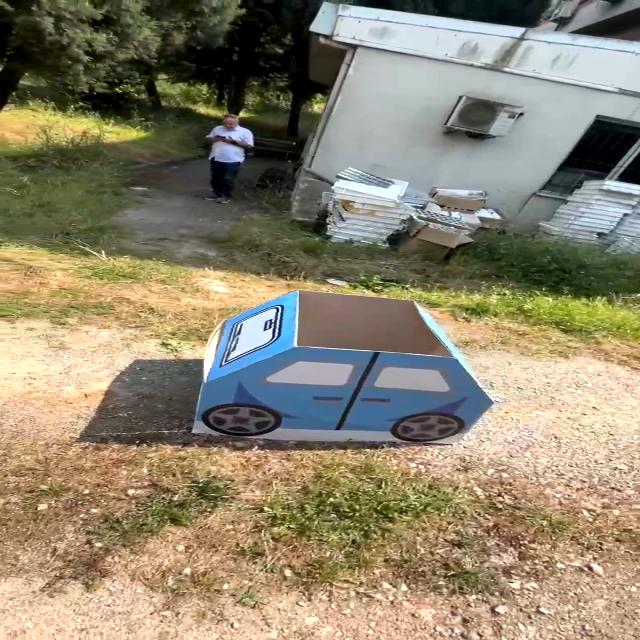blue_car: (151, 286, 522, 459)
